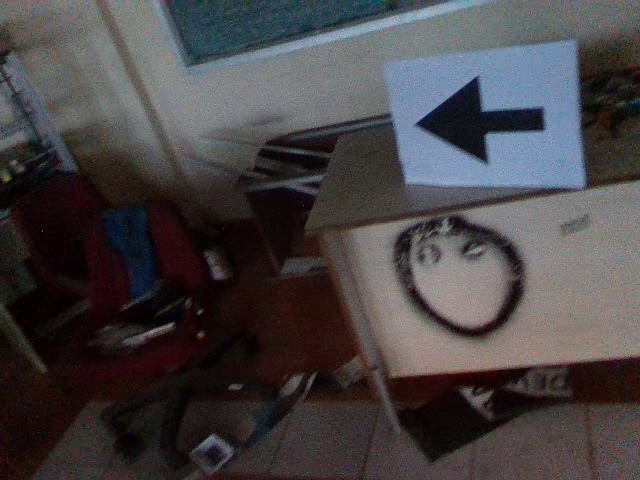Left: (411, 71, 547, 170)
